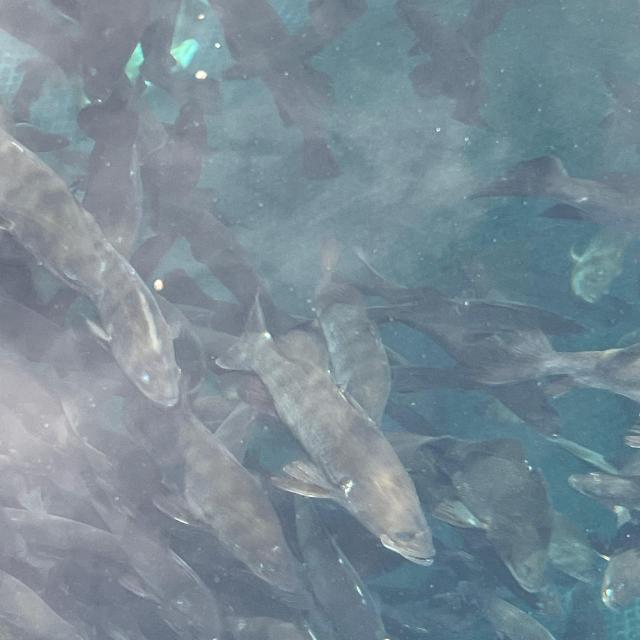ikan: (70, 295, 319, 612), (211, 290, 438, 568), (1, 125, 184, 410), (464, 153, 639, 234)
